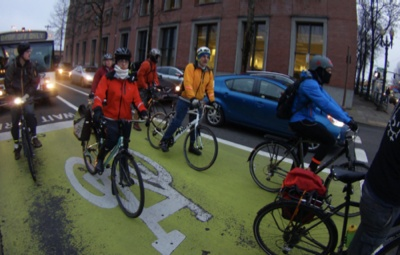helmet: (308, 52, 333, 85)
